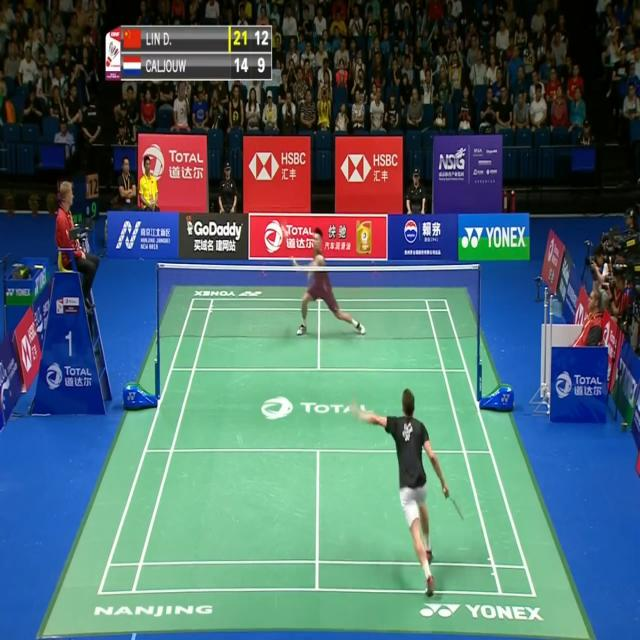Player1: (354, 382, 466, 599)
Player2: (291, 222, 369, 345)
